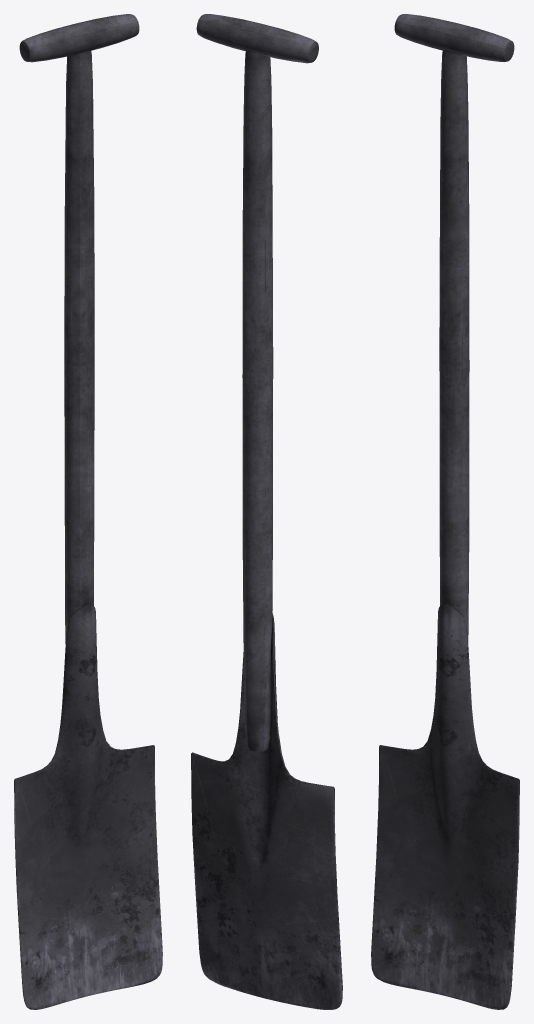
Rendered from ph_spade.gltf.
3 renders of one model, left to right at view 1: azimuth 30°, elevation 25°; view 2: azimuth 150°, elevation 25°; view 3: azimuth 330°, elevation 25°, orthographic. The views are drawn at different scales.
Parts seen in each view (by area): view 1: ph_spade; view 2: ph_spade; view 3: ph_spade.
Part boxes in pixels (bbox=[...]): ph_spade: bbox=[14, 14, 162, 1009]; ph_spade: bbox=[191, 14, 342, 1009]; ph_spade: bbox=[371, 14, 519, 1009].
Size of the model in its own units: 0.1682 by 1.1 by 0.0457.
Materials: 1 (1 with a texture image).
